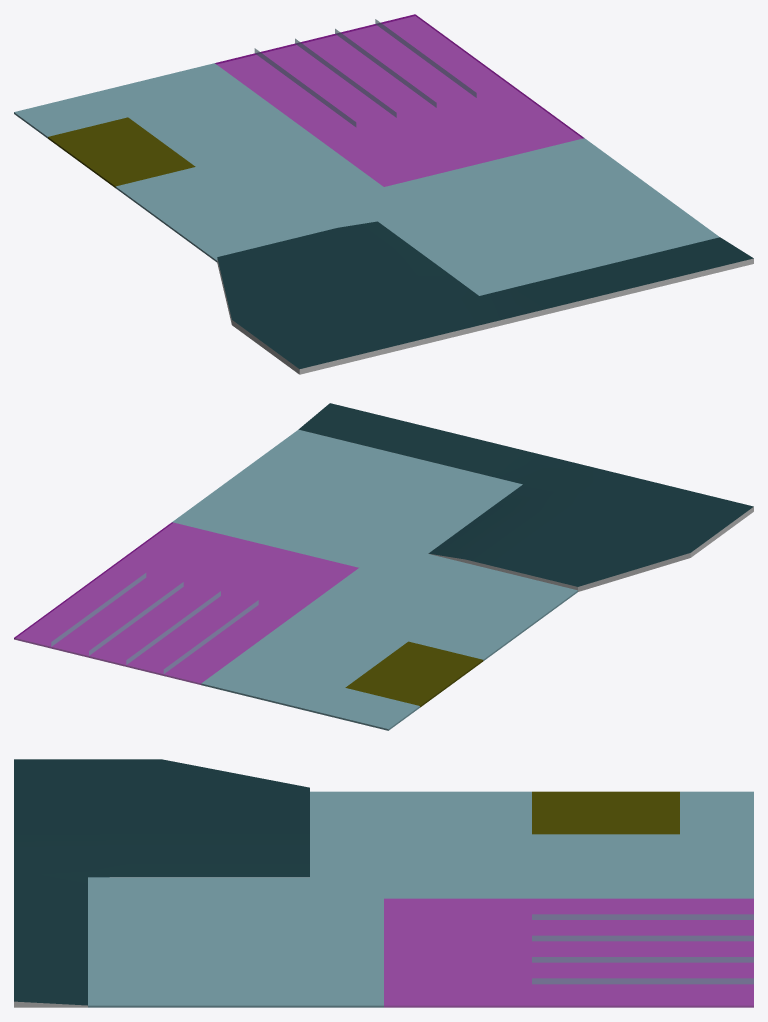
File: CaptainsIDCard.fbx
The picture shows the model from 3 angles, top to bottom: view 1: azimuth 30°, elevation 25°; view 2: azimuth 150°, elevation 25°; view 3: azimuth 270°, elevation 25°; orthographic projection. The views are drawn at different scales.
Visible parts, largest first — view 1: pPlane1; view 2: pPlane1; view 3: pPlane1.
Boxes of the visible parts, x1,y1,x2,y2 form: pPlane1: (14,14,753,374); pPlane1: (14,403,753,730); pPlane1: (14,759,753,1007).
Size of the model in its own units: 0.1048 by 0.00158 by 0.1352.
